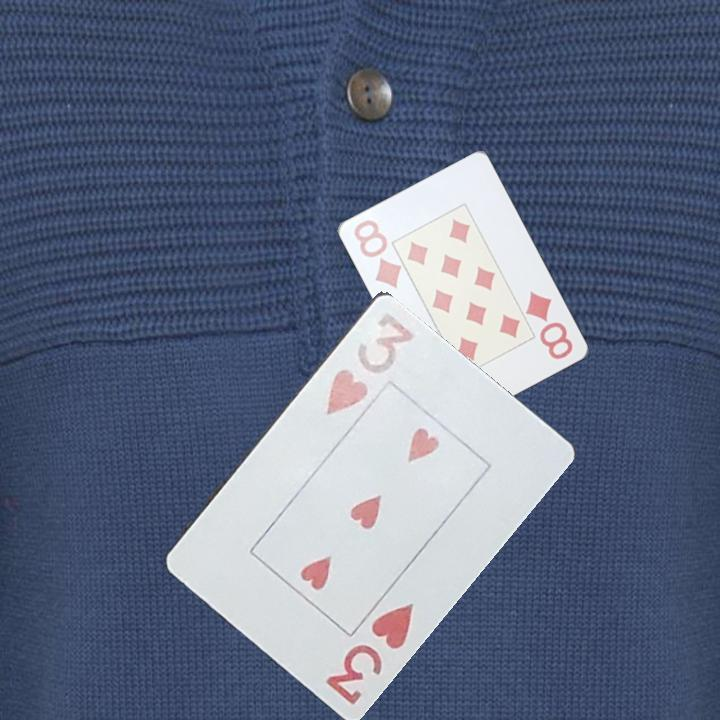3h: (321, 308, 417, 418), (322, 598, 417, 708)
8d: (350, 216, 403, 291), (522, 287, 575, 362)
